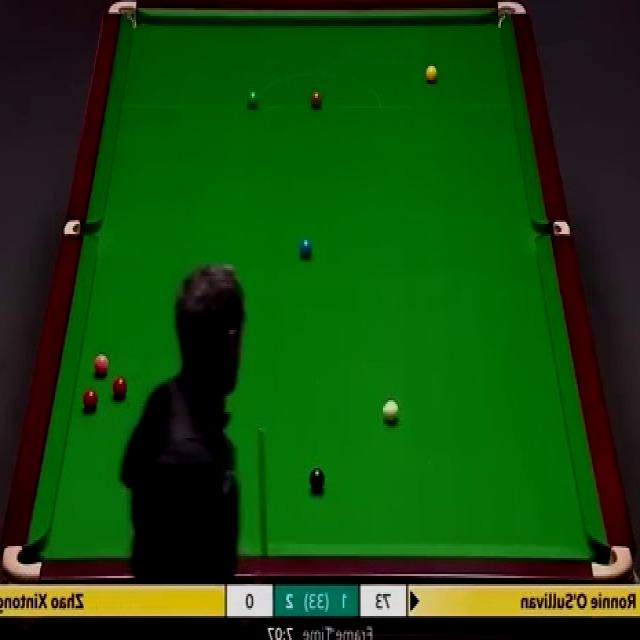black-ball: (309, 466, 325, 493)
blue-ball: (299, 239, 312, 261)
brown-ball: (310, 93, 322, 110)
green-ball: (247, 90, 258, 110)
pink-ball: (92, 353, 109, 378)
red-ball: (82, 391, 99, 411), (112, 378, 127, 399)
white-ball: (383, 398, 402, 426)
yellow-ball: (424, 66, 438, 86)
